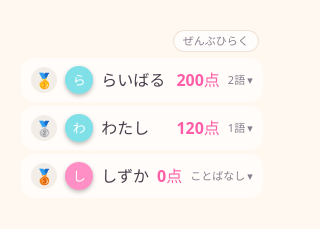
Test: RoundPlayerList › ことばが1つもない人はその旨を出す
Click the text "しずか".
click(125, 176)  # box [101, 164, 149, 188]
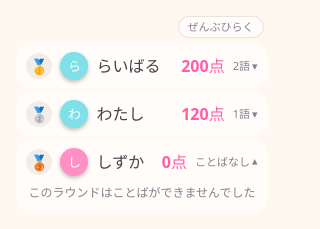
Expected: the text "このラウンドはことばができませんでした" is shown, [16, 184, 268, 212]
